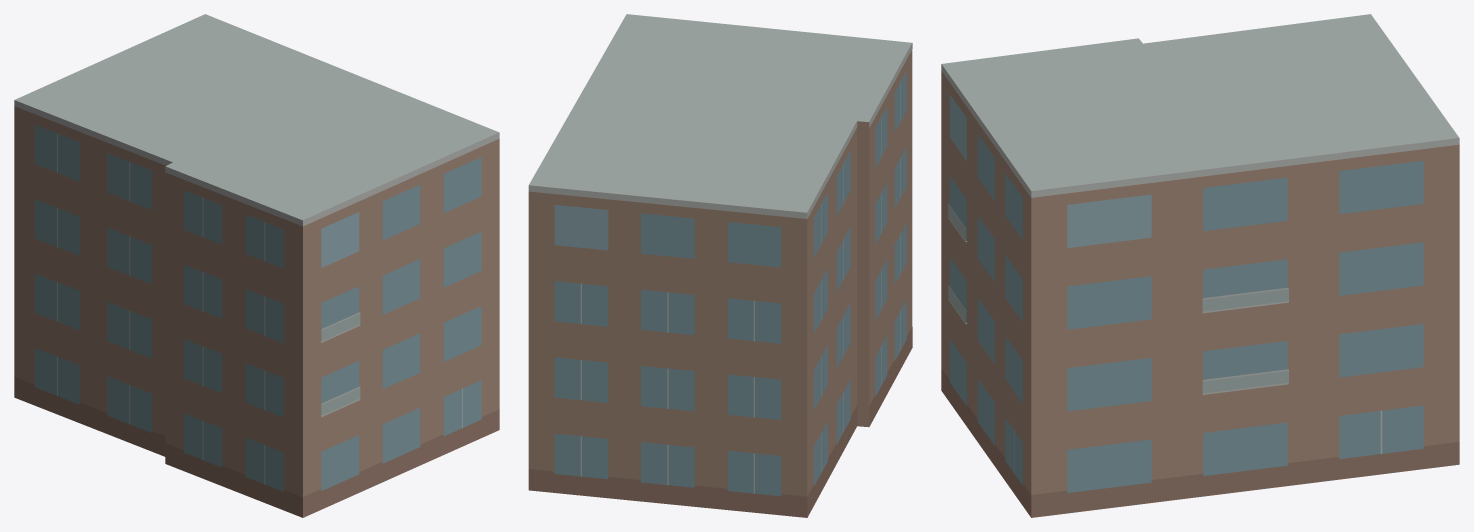
Rendered from survey-upis-32746205.glb.
3 views of the same model, side by side, from view 1: azimuth 30°, elevation 25°; view 2: azimuth 150°, elevation 25°; view 3: azimuth 270°, elevation 25° (orthographic). The views are drawn at different scales.
Visible parts, largest first — view 1: survey-upis-32746205.tmp; view 2: survey-upis-32746205.tmp; view 3: survey-upis-32746205.tmp.
Boxes of the visible parts, left/top/right/bottom form: survey-upis-32746205.tmp: left=14, top=14, right=499, bottom=517; survey-upis-32746205.tmp: left=528, top=14, right=912, bottom=517; survey-upis-32746205.tmp: left=941, top=14, right=1459, bottom=517.
Size of the model in its own units: 13.92 by 11.95 by 17.19.
